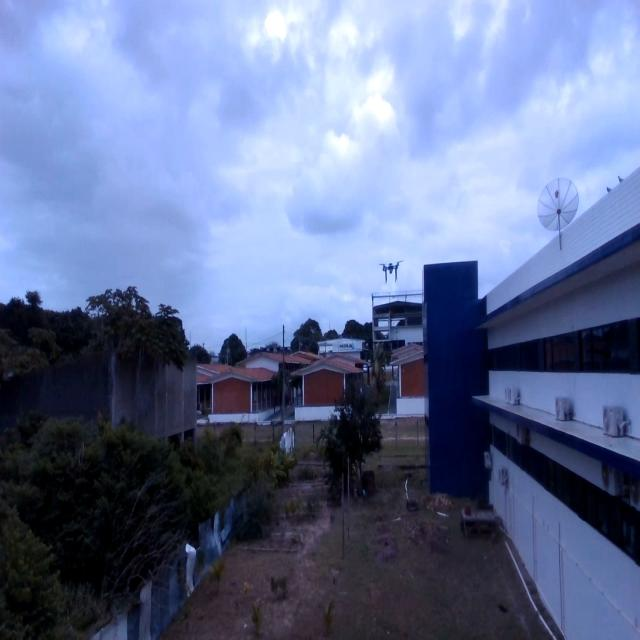-uav-: (375, 250, 407, 294)
